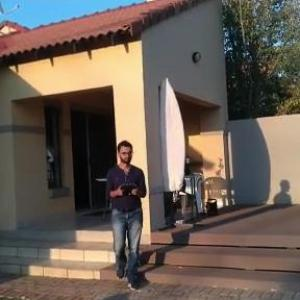follow: (105, 138, 150, 294)
